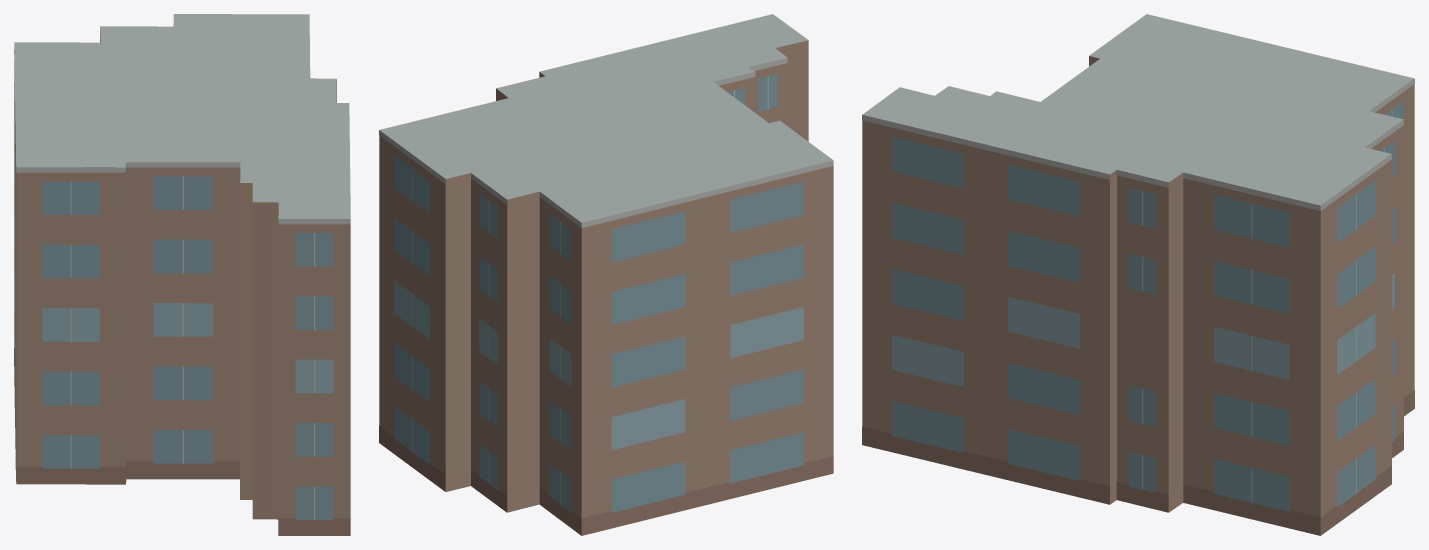
Rendered from survey-upis-32875414.glb.
3 views of the same model, side by side, from view 1: azimuth 30°, elevation 25°; view 2: azimuth 150°, elevation 25°; view 3: azimuth 270°, elevation 25° (orthographic). The views are drawn at different scales.
Parts seen in each view (by area): view 1: survey-upis-32875414.tmp; view 2: survey-upis-32875414.tmp; view 3: survey-upis-32875414.tmp.
Part boxes in pixels (x1=…): survey-upis-32875414.tmp: x1=14, y1=14, x2=350, y2=535; survey-upis-32875414.tmp: x1=379, y1=14, x2=833, y2=535; survey-upis-32875414.tmp: x1=862, y1=14, x2=1414, y2=535.
Size of the model in its own units: 18.05 by 14.5 by 21.99.
